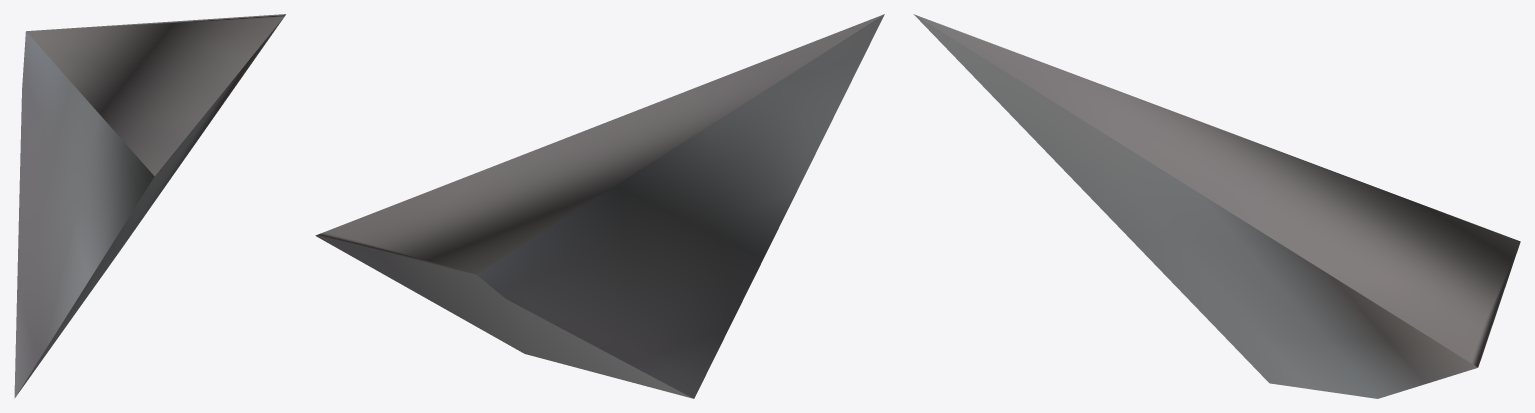
File: Asteroid_Large_001_02_003_03_004.fbx
3 views of the same model, side by side, from view 1: azimuth 30°, elevation 25°; view 2: azimuth 150°, elevation 25°; view 3: azimuth 270°, elevation 25° (orthographic). The views are drawn at different scales.
Parts seen in each view (by area): view 1: Asteroid_Large_001_02_003_03_004; view 2: Asteroid_Large_001_02_003_03_004; view 3: Asteroid_Large_001_02_003_03_004.
Boxes of the visible parts, left/top/right/bottom form: Asteroid_Large_001_02_003_03_004: left=14, top=14, right=285, bottom=398; Asteroid_Large_001_02_003_03_004: left=315, top=14, right=884, bottom=398; Asteroid_Large_001_02_003_03_004: left=913, top=14, right=1520, bottom=398.
Size of the model in its own units: 0.1632 by 0.1337 by 0.2137.
